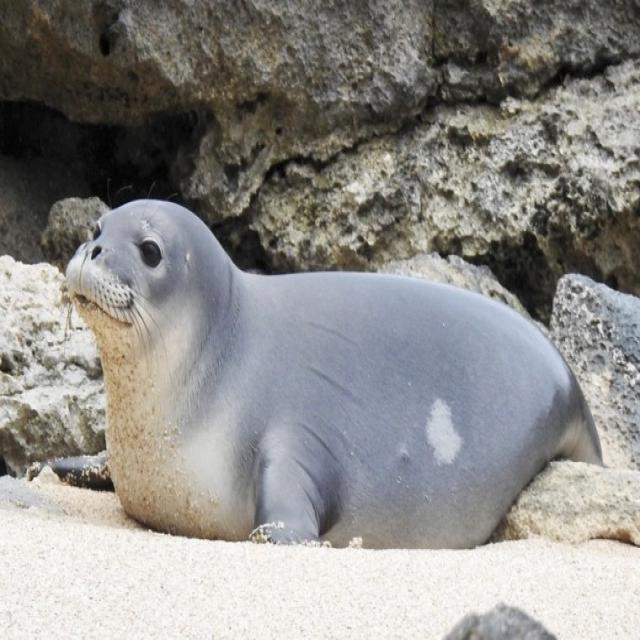WaterDog: (60, 195, 605, 558)
